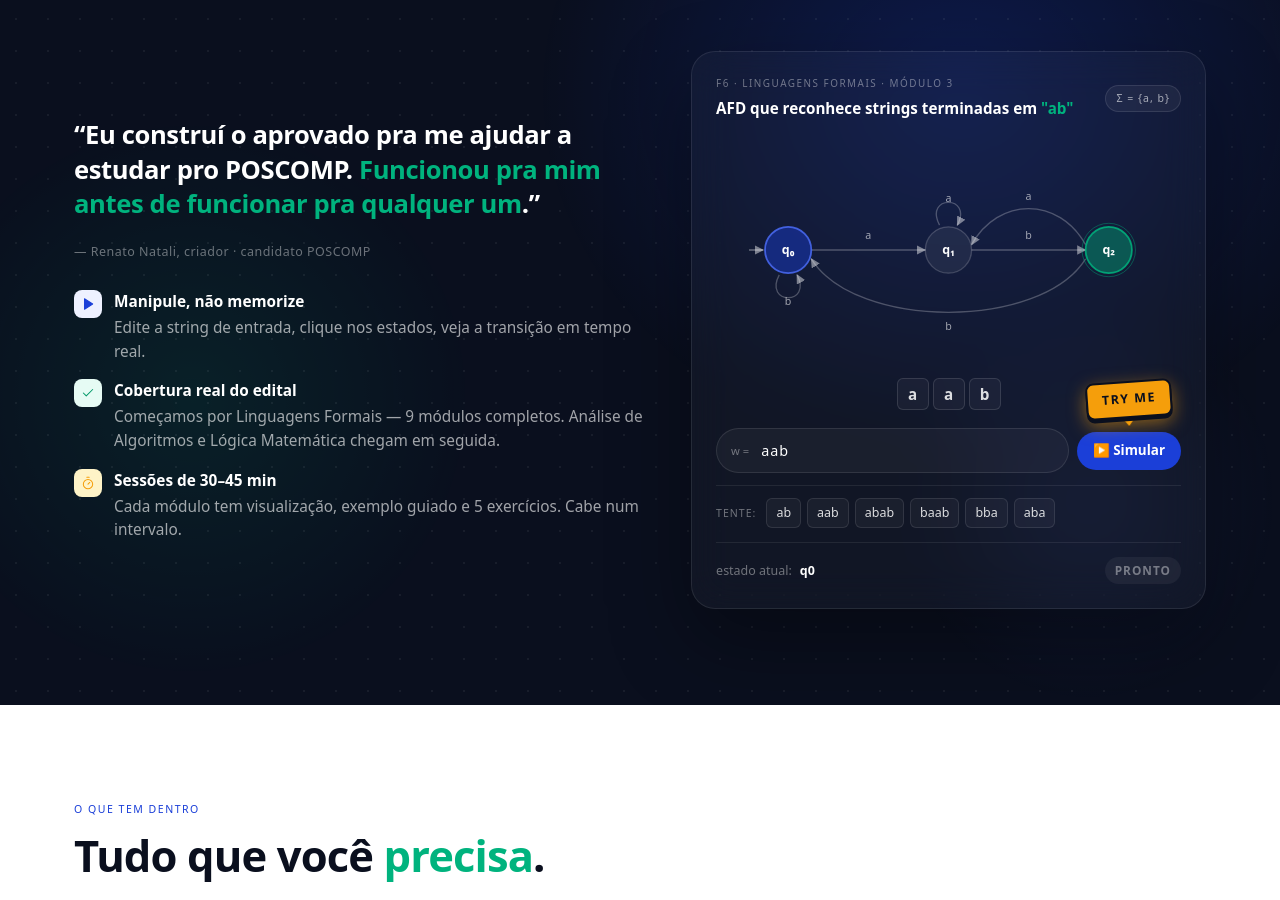
Scenario: LandingPage — comportamento › AutomatonSim aceita interação do usuário › filtra caracteres fora do alfabeto {a,b} ao digitar no input
(page scrolled)
// Limpa o valor inicial e digita uma sequência com caracteres inválidos.
Clear the field with placeholder "aab" at (910, 451), box [757, 433, 1064, 468]
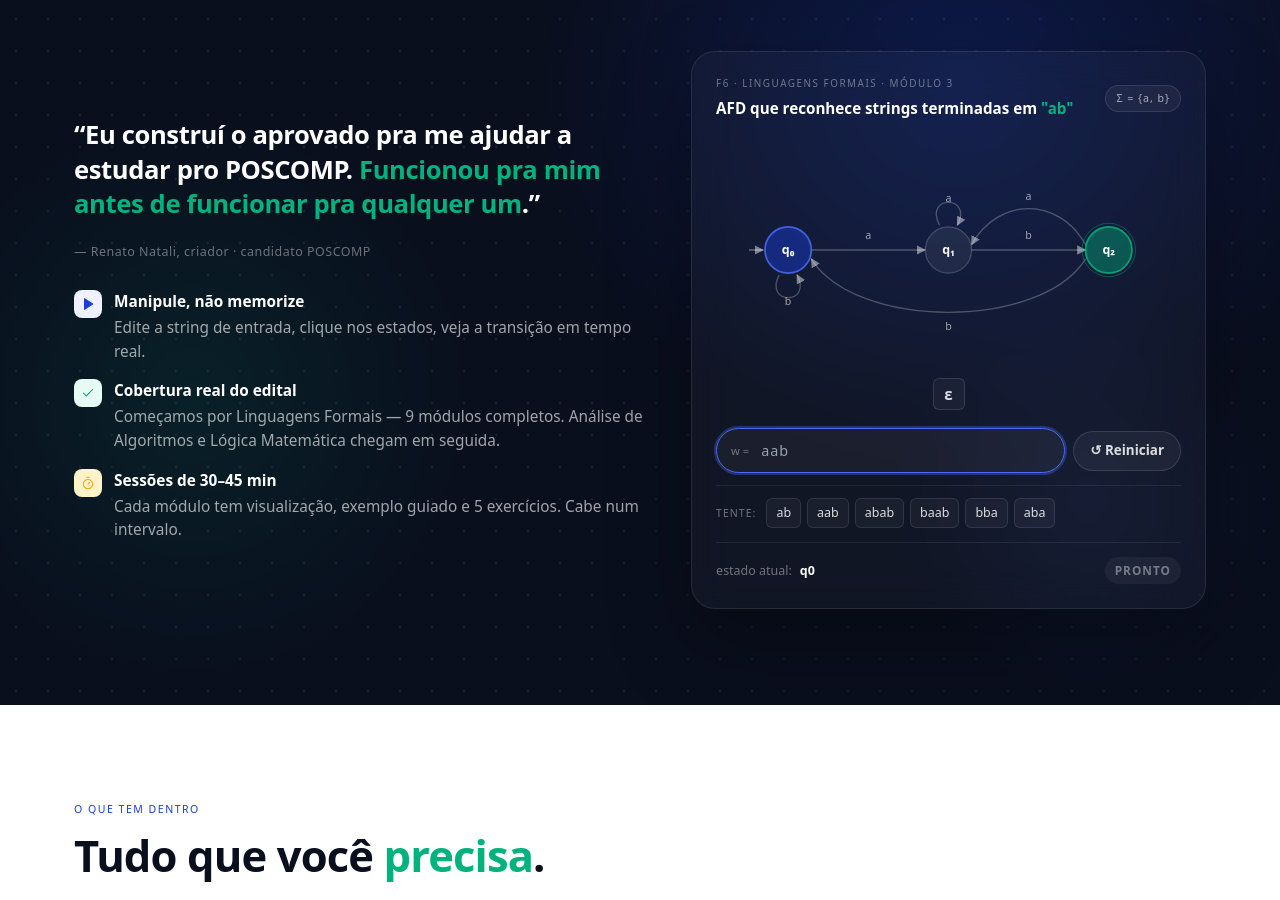
Type "aXbZ9q" into the field with placeholder "aab".
click(909, 451); type("aXbZ9q")  # box [757, 433, 1060, 468]
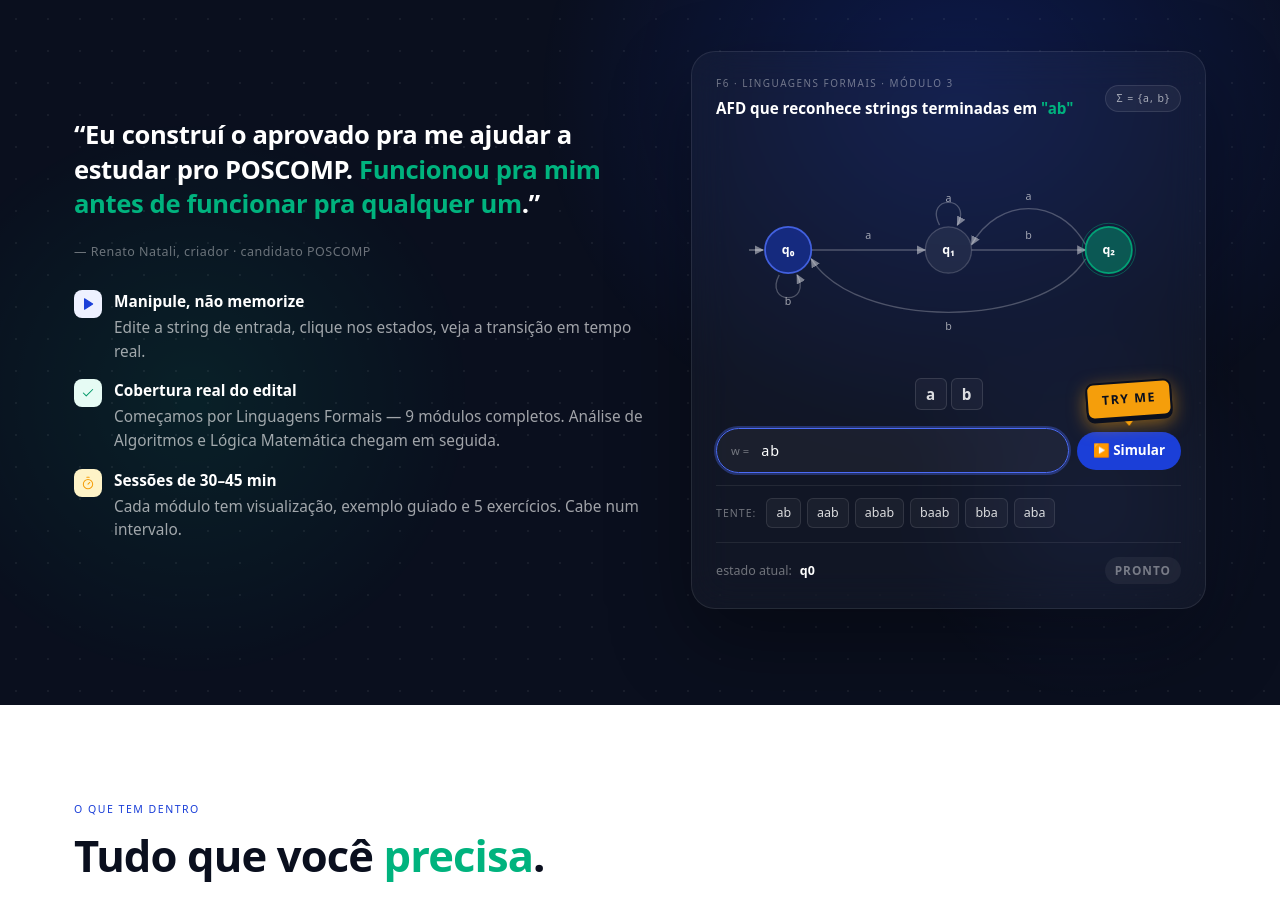
Now the field with placeholder "aab" holds "ab", box [757, 433, 1064, 468]
